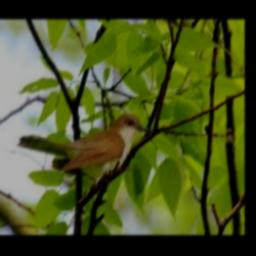Cuckoo: (17, 114, 151, 175)
